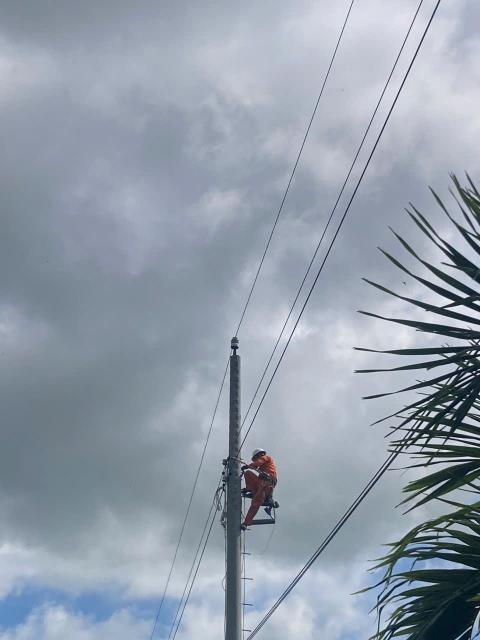gloves: (239, 464, 250, 471)
harness: (256, 468, 280, 486)
helmet: (249, 447, 269, 460)
shoes: (240, 490, 257, 500), (237, 522, 250, 532)
